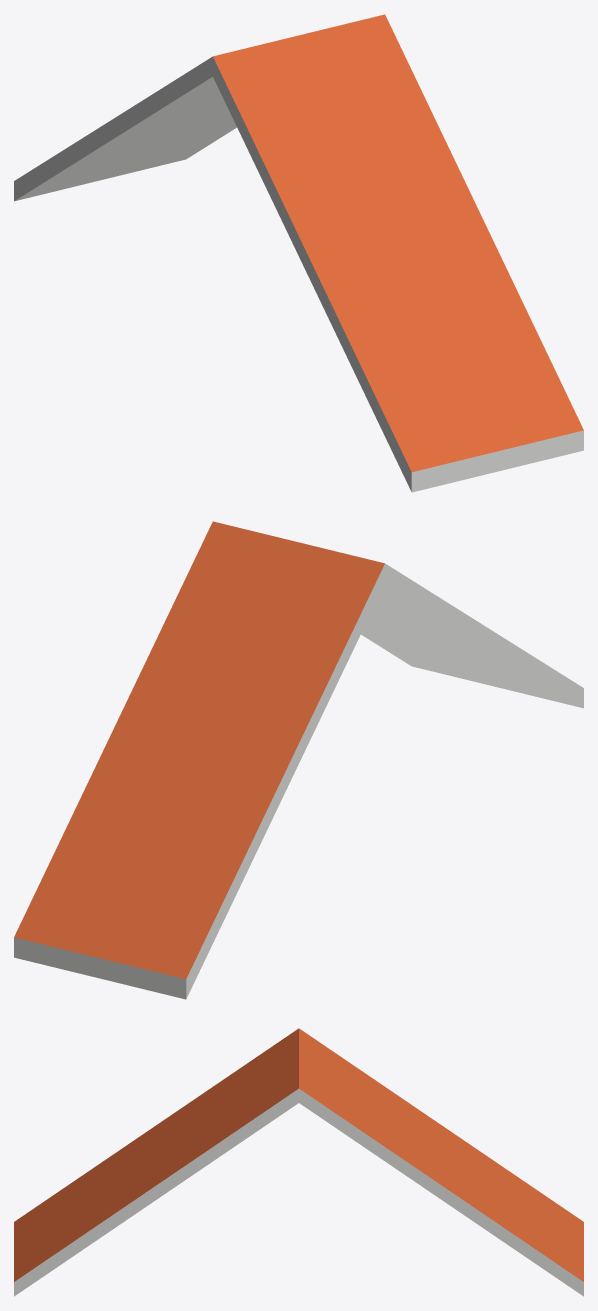
Rendered from telhado_duas_aguas_v4_i75_1m.glb.
The picture shows the model from 3 angles, top to bottom: view 1: azimuth 30°, elevation 25°; view 2: azimuth 150°, elevation 25°; view 3: azimuth 270°, elevation 25°; orthographic projection. The views are drawn at different scales.
Visible parts, largest first — view 1: telhado_duas_aguas_v4_i75_1m; view 2: telhado_duas_aguas_v4_i75_1m; view 3: telhado_duas_aguas_v4_i75_1m.
Boxes of the visible parts, x1,y1,x2,y2 form: telhado_duas_aguas_v4_i75_1m: (14, 14, 583, 492); telhado_duas_aguas_v4_i75_1m: (14, 521, 583, 999); telhado_duas_aguas_v4_i75_1m: (14, 1028, 583, 1296).
Size of the model in its own units: 1 by 1.61 by 4.
